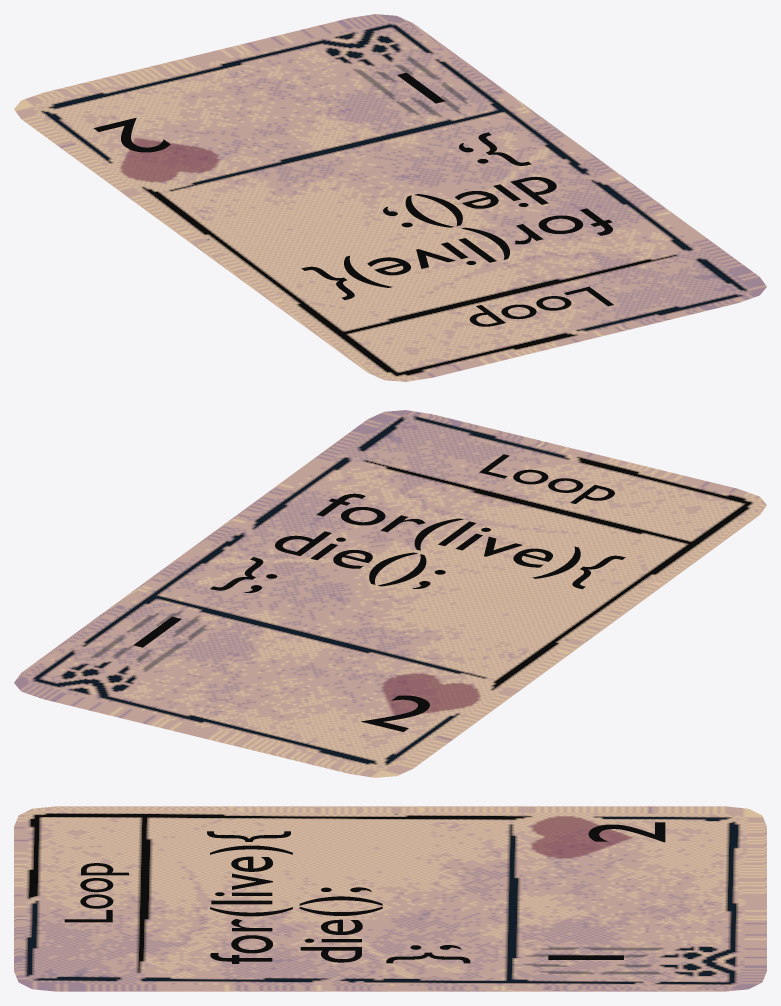
The model's file is Loop.glb.
The picture shows the model from 3 angles, top to bottom: view 1: azimuth 30°, elevation 25°; view 2: azimuth 150°, elevation 25°; view 3: azimuth 270°, elevation 25°; orthographic projection. The views are drawn at different scales.
Visible parts, largest first — view 1: Loop; view 2: Loop; view 3: Loop.
Boxes of the visible parts, x1,y1,x2,y2 form: Loop: (14, 14, 766, 381); Loop: (14, 410, 766, 777); Loop: (14, 806, 766, 991).
Size of what is drawn, in the model's own units: 44.93 by 0.4028 by 77.22.
3 materials, 1 textured.
